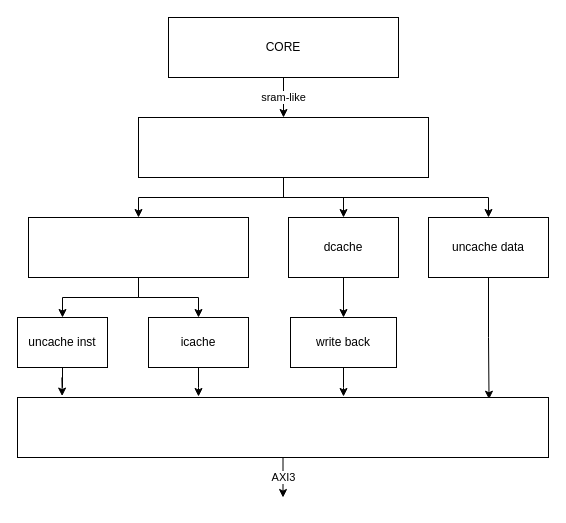
The diagram is 566 pixels wide and 523 high, and some of its shapes have lost their labels. The centre of each missing label's shape, as x and y in pixels:
crossbar 4x1: (x=282, y=427)
inst fifo （指令队列）: (x=138, y=247)
MemAccessLogic (访存判断): (x=283, y=147)
